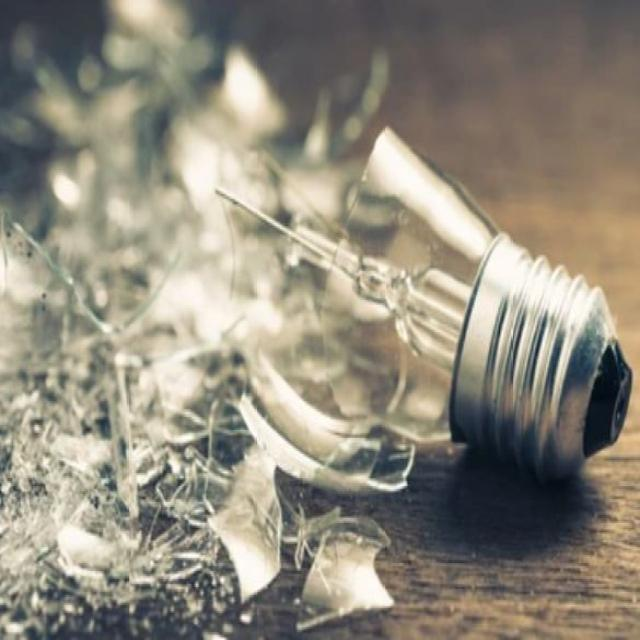electronic: (215, 122, 632, 489), (206, 444, 283, 605)
